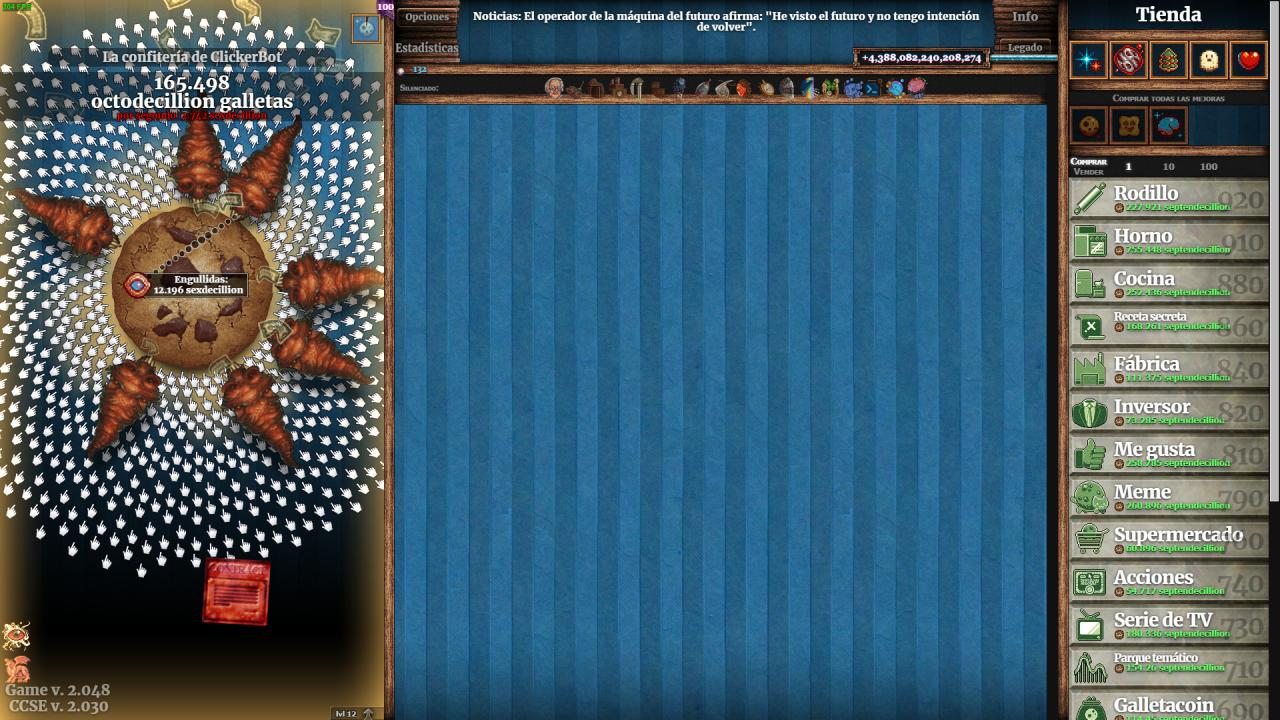RedCartridge: (200, 556, 274, 629)
